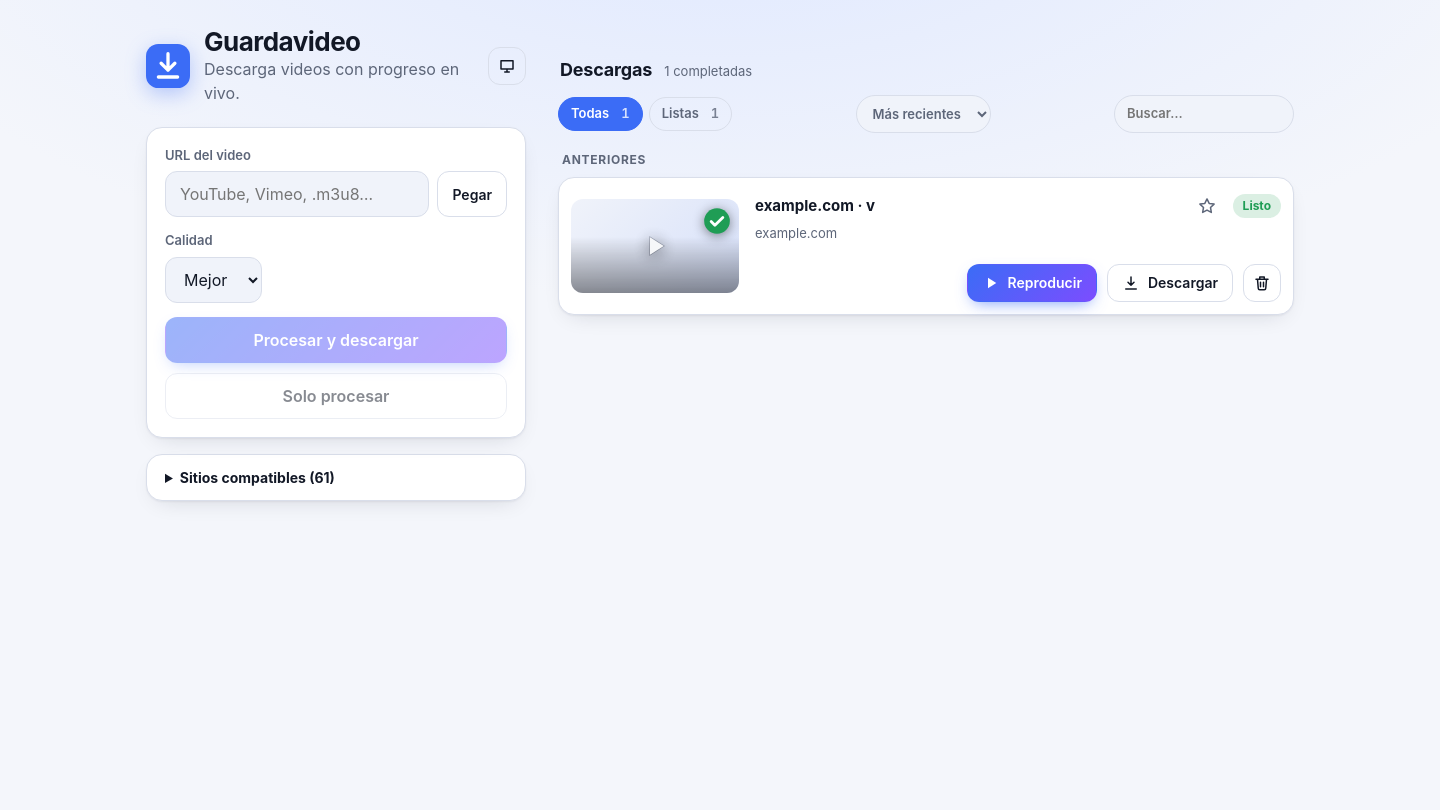
Test: App (integración con fetch simulado) › procesar y descargar › si el video ya estaba listo lo baja de inmediato
The width and height of the screenshot is (1440, 810).
Expected: the text "Listo" is shown, [1233,194,1281,218]
Type "https://example.com/v.mp4" into the field labelled "URL del video" at [297, 194], box [165,171,429,217]
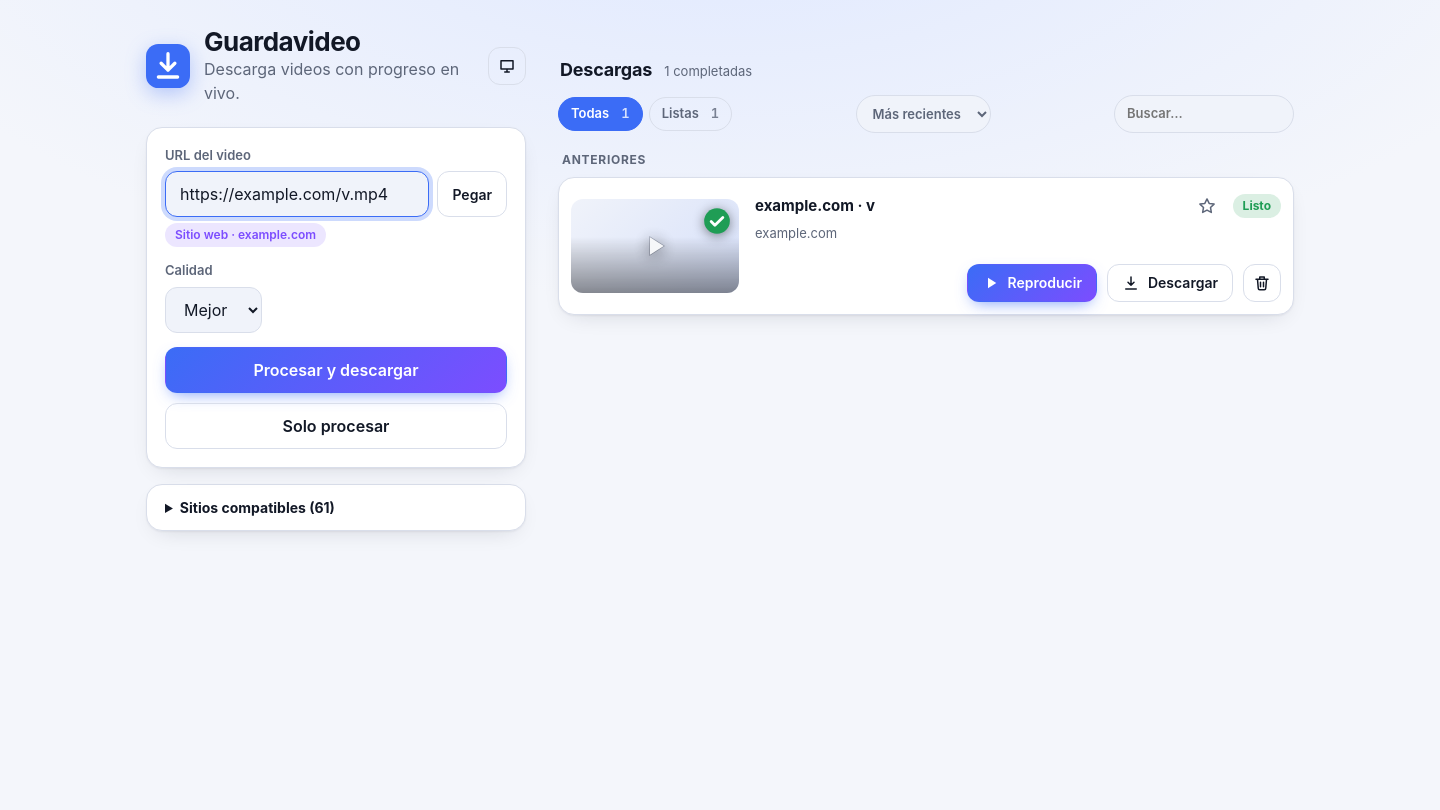
Click the button "Procesar y descargar" at [336, 370], box [165,347,507,393]
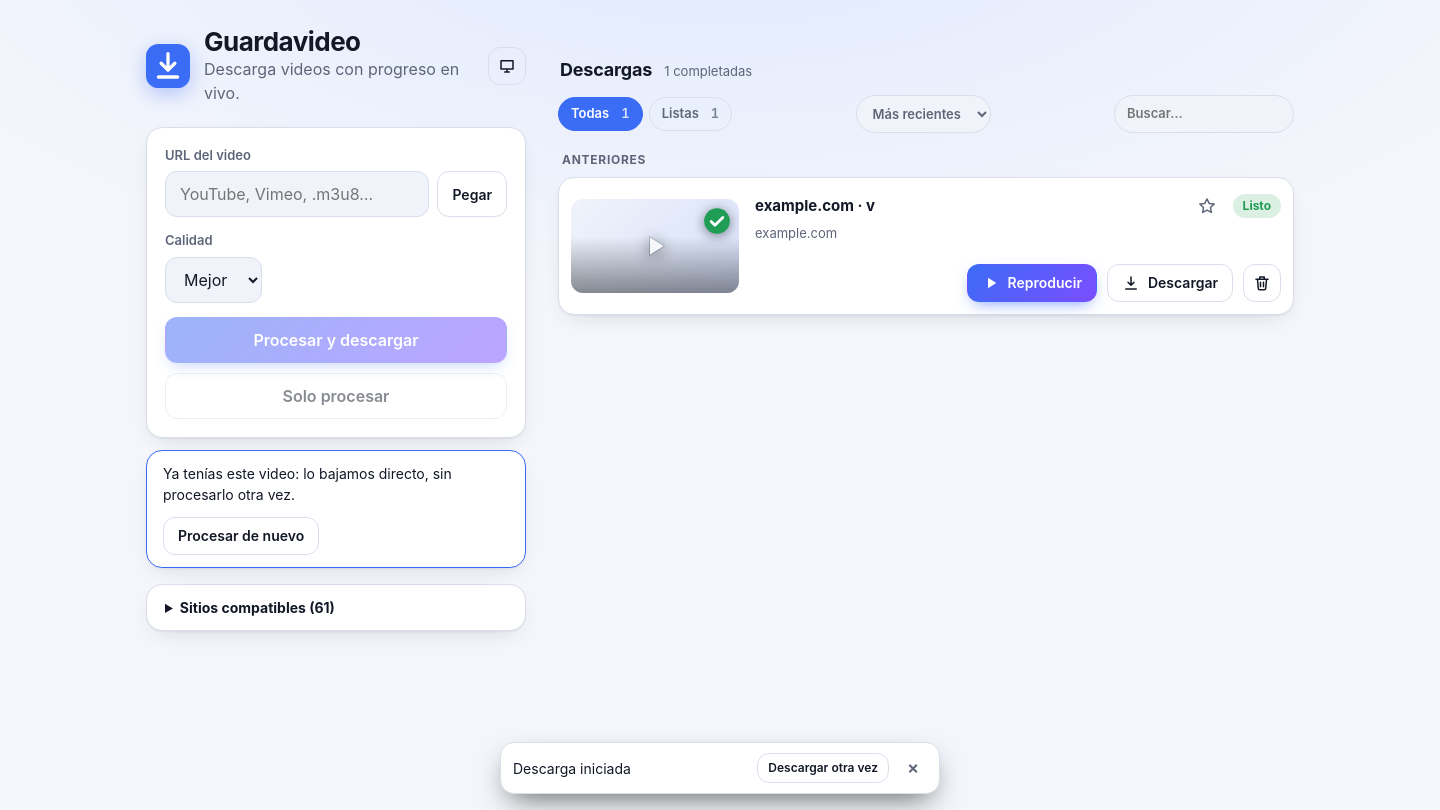
Result: the text "lo bajamos directo" is shown at [163,465,452,503]
